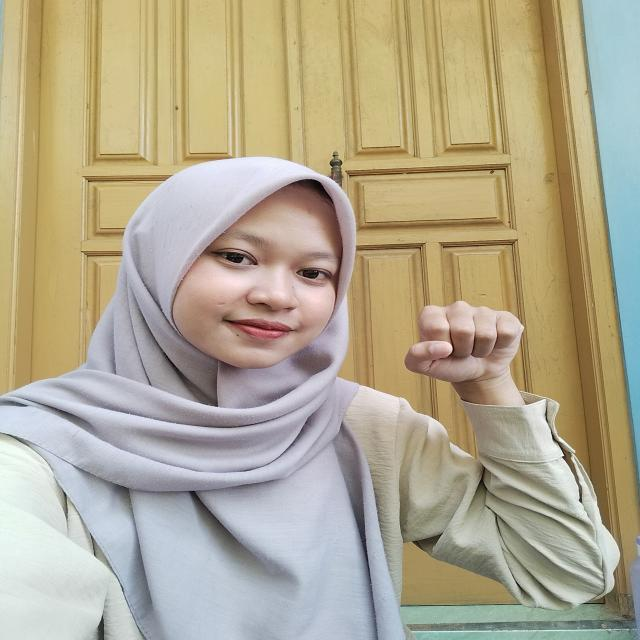baik: (384, 292, 565, 476)
